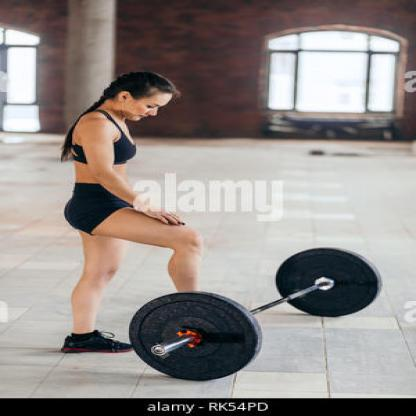Barbell: (123, 286, 271, 387)
